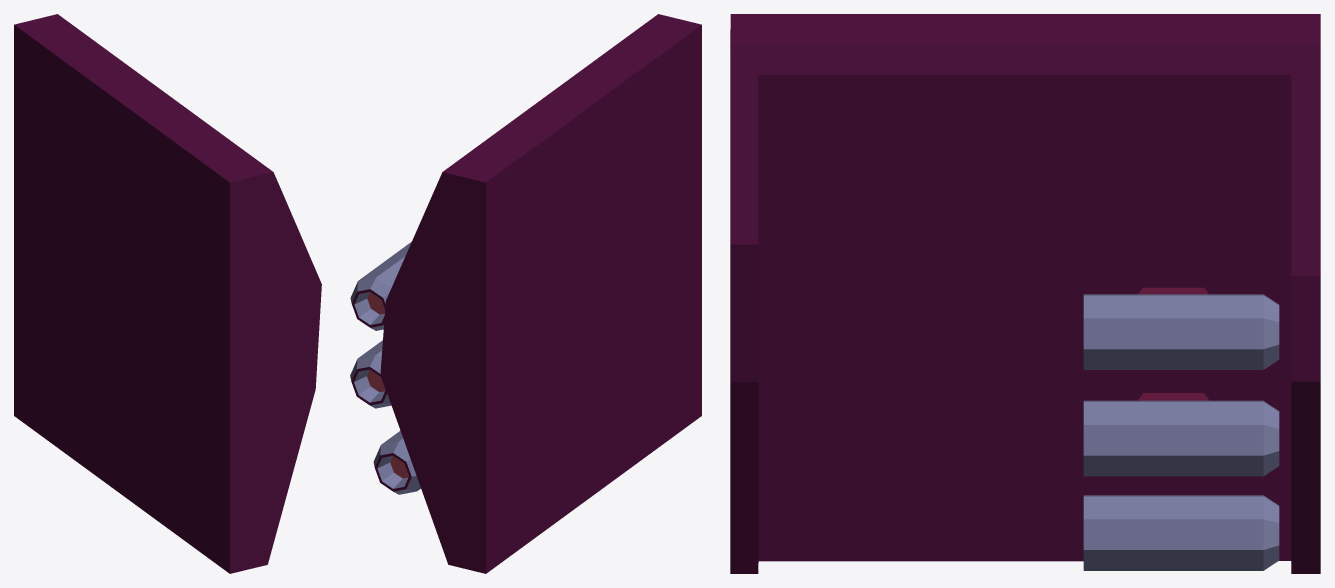
The model's file is JefeBD.fbx.
3 renders of one model, left to right at view 1: azimuth 30°, elevation 25°; view 2: azimuth 150°, elevation 25°; view 3: azimuth 270°, elevation 25°, orthographic. The views are drawn at different scales.
Parts seen in each view (by area): view 1: Brazo Derecho; view 2: Brazo Derecho, Armas Derecha; view 3: Brazo Derecho, Armas Derecha.
Part boxes in pixels (x1=…): Brazo Derecho: x1=14, y1=14, x2=321, y2=573; Brazo Derecho: x1=380, y1=14, x2=701, y2=573; Armas Derecha: x1=350, y1=242, x2=420, y2=494; Brazo Derecho: x1=730, y1=14, x2=1320, y2=573; Armas Derecha: x1=1083, y1=287, x2=1279, y2=570.
Size of the model in its own units: 168 by 400 by 400.
